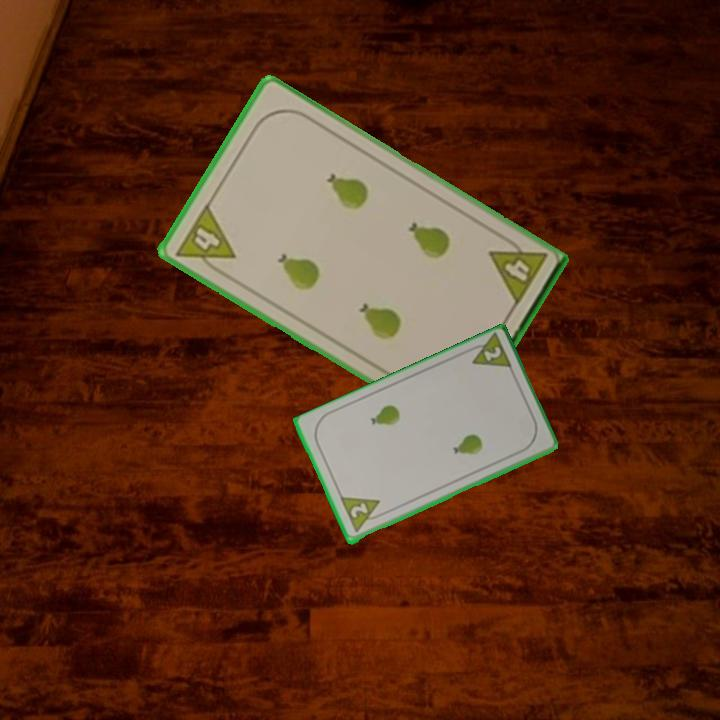2p: (462, 331, 515, 373), (337, 493, 388, 536)
4p: (172, 200, 238, 279), (485, 231, 550, 310)
